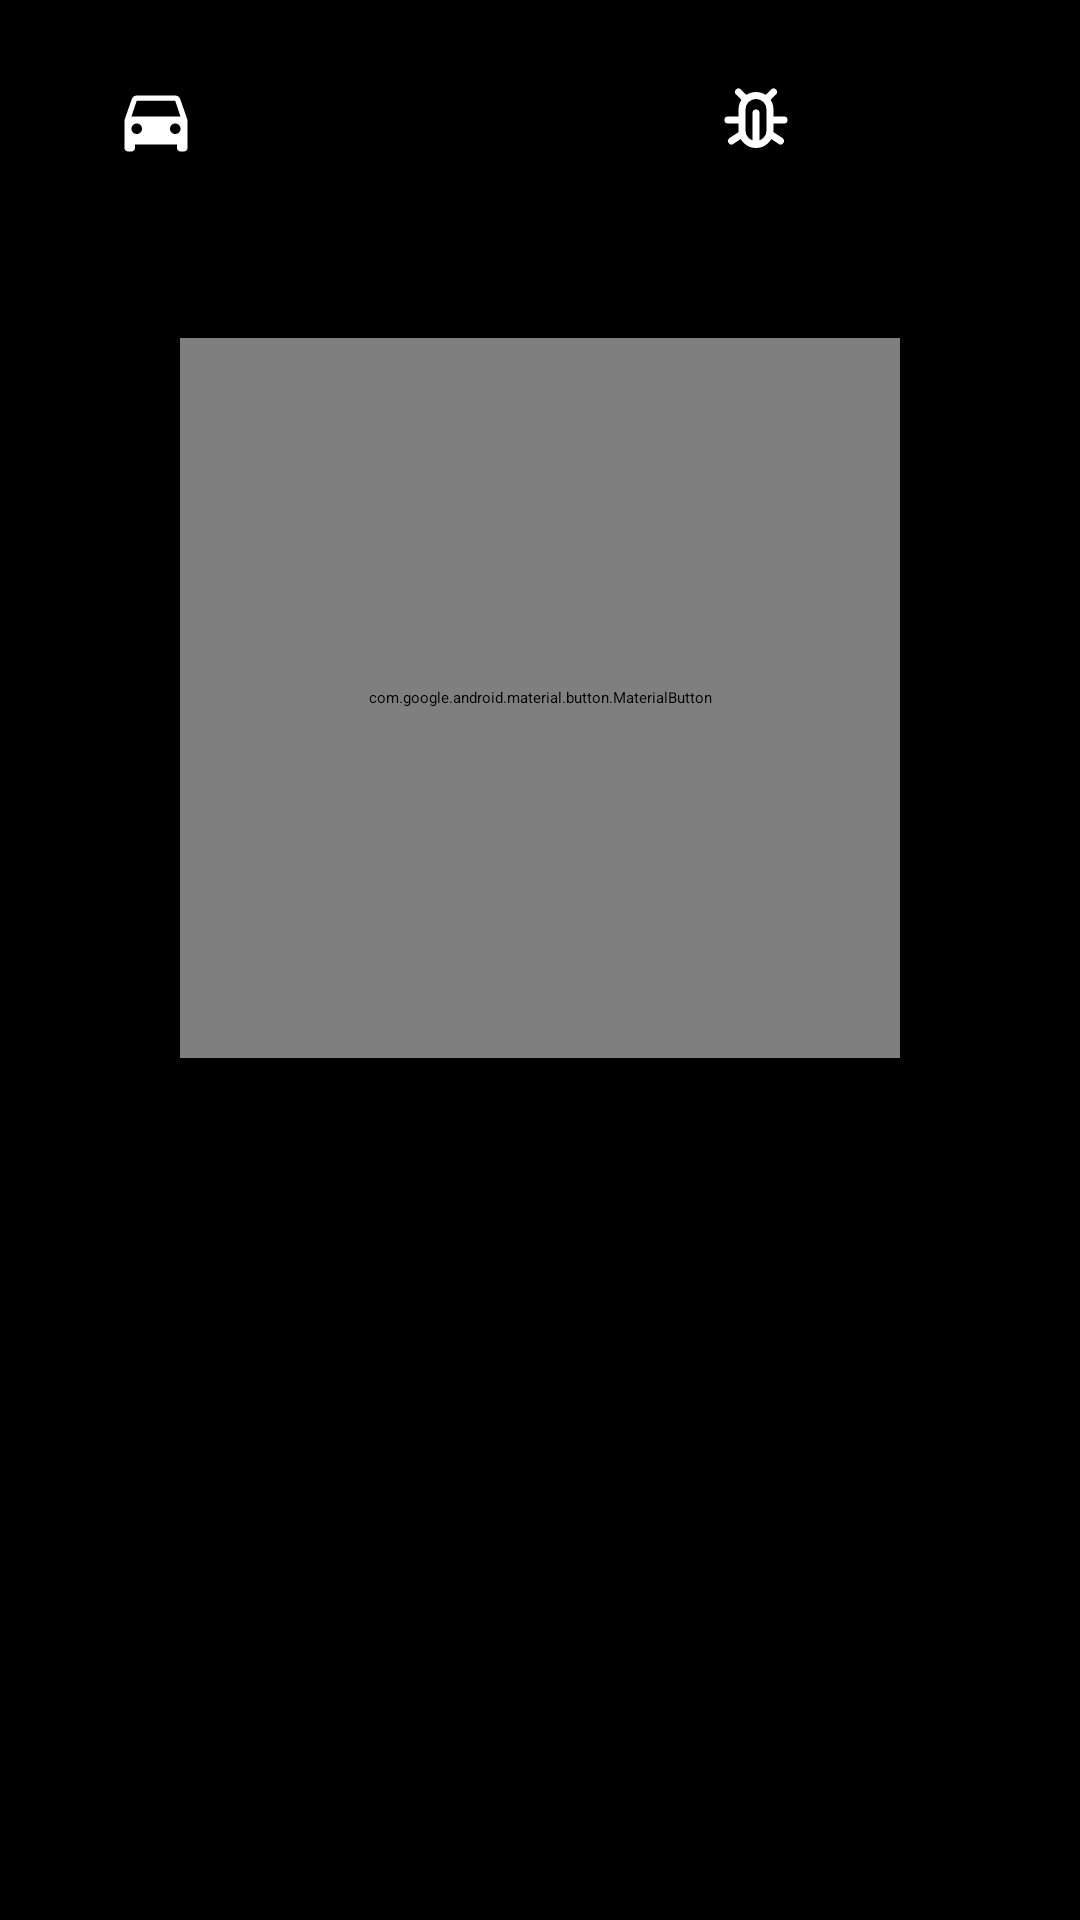

Icons on this 1080px×1920px Android screen, each with the point to tap as [x,y]:
car: [156,123]
Debug: [756,118]
